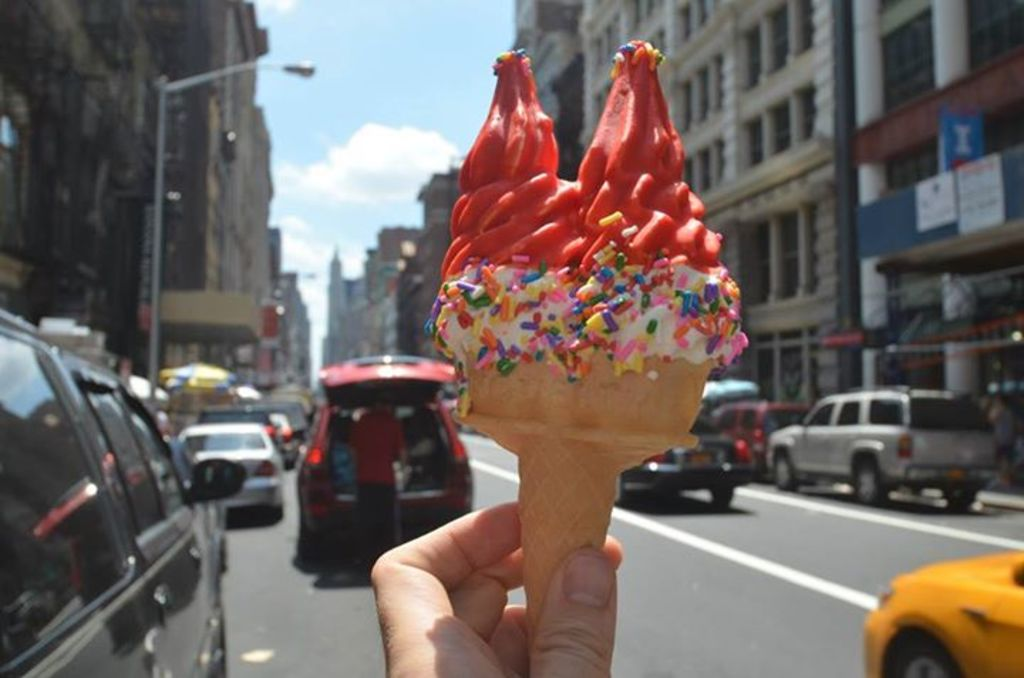cars: (0, 310, 234, 676), (298, 359, 479, 562), (761, 386, 1001, 521), (862, 554, 1022, 676), (624, 427, 753, 511), (175, 420, 279, 504), (709, 393, 800, 488)
